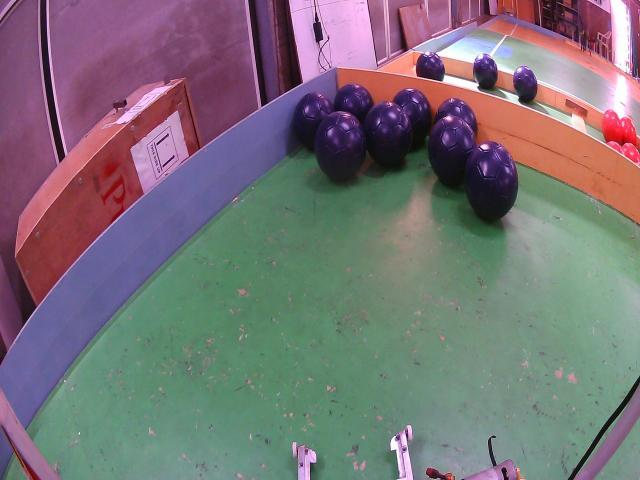kaalyya: (464, 140, 519, 220), (315, 112, 366, 180), (428, 115, 476, 187), (364, 102, 412, 167), (292, 92, 334, 148), (392, 88, 431, 144), (434, 98, 478, 136), (334, 83, 374, 123), (512, 65, 538, 102), (472, 53, 498, 88), (416, 52, 445, 82)
